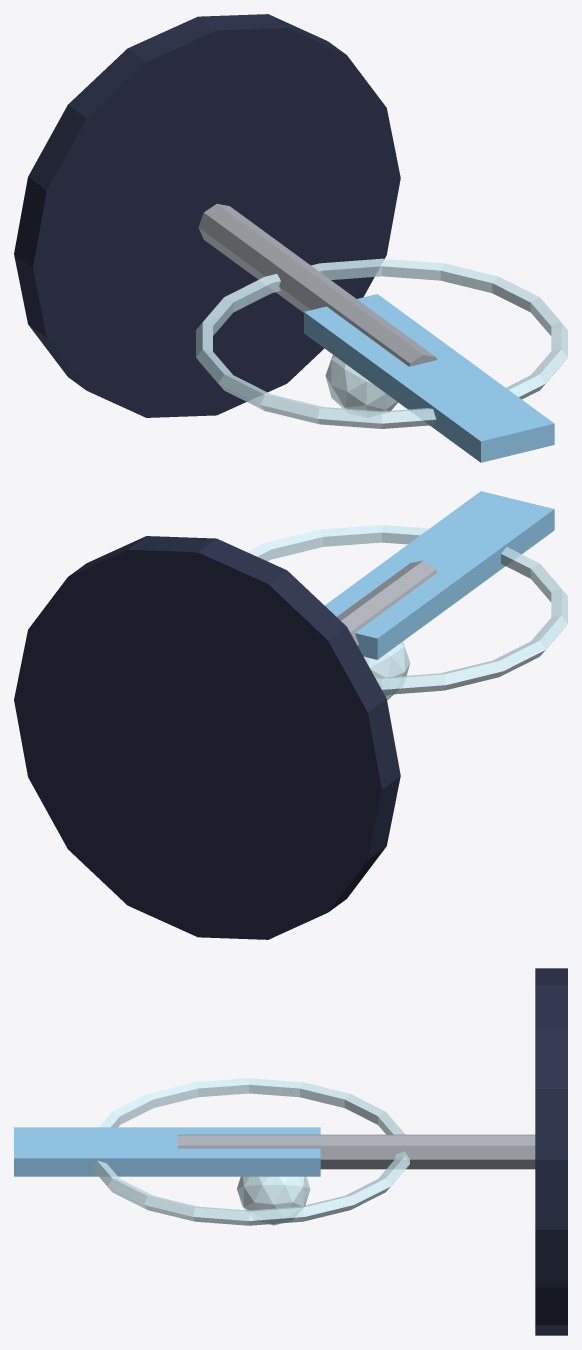
File: 01_item_weapon_finish_overlay_1.glb
The picture shows the model from 3 angles, top to bottom: view 1: azimuth 30°, elevation 25°; view 2: azimuth 150°, elevation 25°; view 3: azimuth 270°, elevation 25°; orthographic projection. The views are drawn at different scales.
Visible parts, largest first — view 1: display_base, finish_blade_preview, finish_orbit, weapon_handle_preview, rarity_gem; view 2: display_base, finish_blade_preview, finish_orbit, weapon_handle_preview, rarity_gem; view 3: finish_blade_preview, display_base, finish_orbit, weapon_handle_preview, rarity_gem.
Part boxes in pixels (x1,y1,x2,y2): display_base: [14, 14, 400, 417]; finish_blade_preview: [304, 294, 554, 462]; finish_orbit: [196, 258, 567, 428]; weapon_handle_preview: [198, 203, 437, 366]; rarity_gem: [325, 355, 397, 411]; display_base: [14, 536, 400, 939]; finish_blade_preview: [325, 491, 554, 659]; finish_orbit: [247, 525, 567, 694]; weapon_handle_preview: [337, 560, 437, 646]; rarity_gem: [364, 642, 410, 700]; finish_blade_preview: [14, 1127, 320, 1176]; display_base: [535, 968, 567, 1335]; finish_orbit: [91, 1078, 409, 1225]; weapon_handle_preview: [177, 1134, 535, 1169]; rarity_gem: [237, 1176, 310, 1225].
Size of the model in its own units: 0.9 by 0.9 by 1.36.
